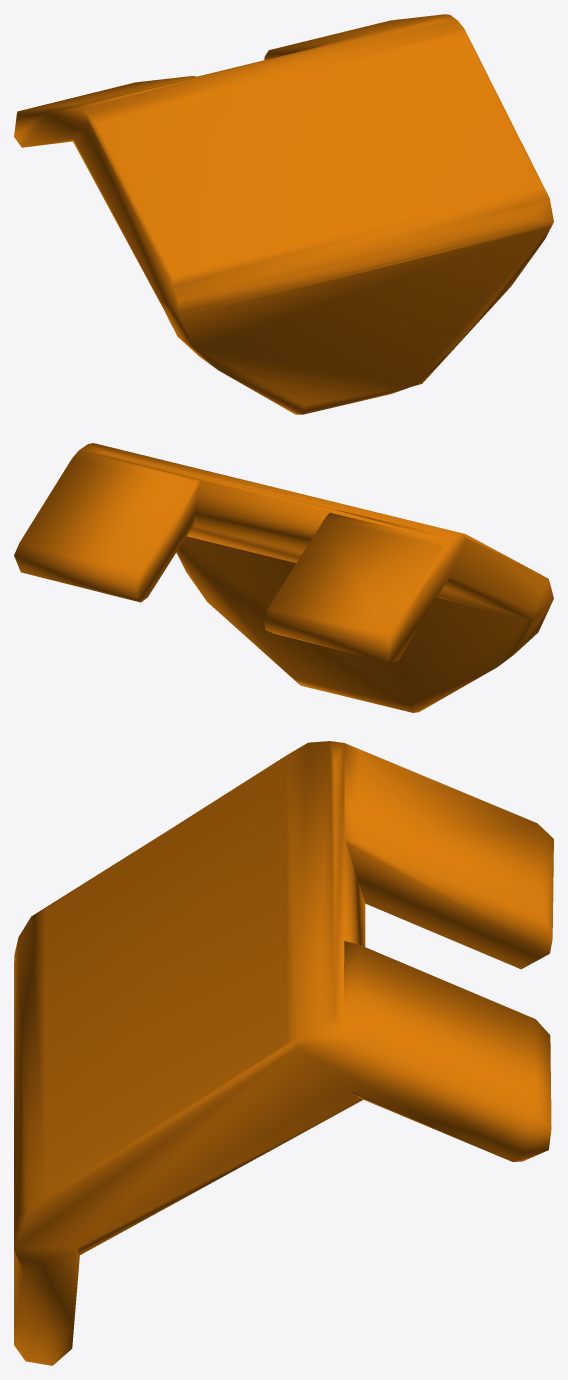
The model's file is inner_double_collision.glb.
3 views of the same model, one above another, from view 1: azimuth 30°, elevation 25°; view 2: azimuth 150°, elevation 25°; view 3: azimuth 270°, elevation 25° (orthographic). The views are drawn at different scales.
Visible parts, largest first — view 1: node; view 2: node; view 3: node.
Boxes of the visible parts, left/top/right/bottom form: node: left=14, top=14, right=553, bottom=414; node: left=14, top=443, right=553, bottom=712; node: left=14, top=741, right=553, bottom=1365.
Bounding box in the file's own units: 0.095 × 0.0656 × 0.0737.
